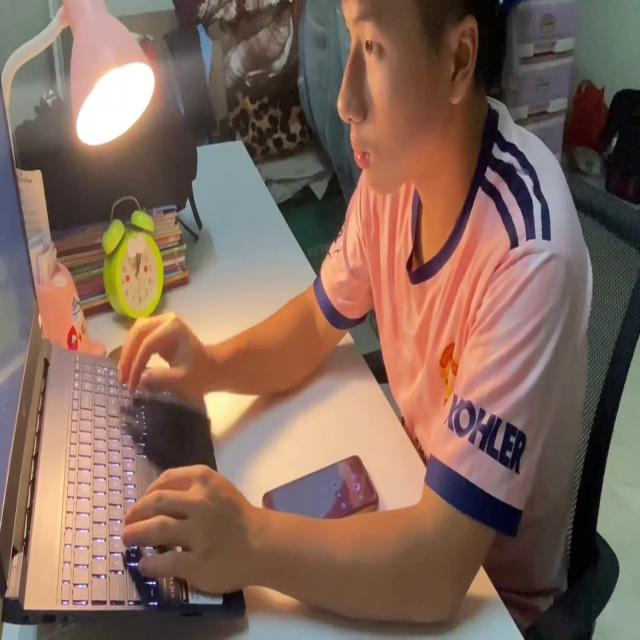laptop: (0, 69, 250, 624)
phone: (258, 447, 384, 532)
student: (120, 0, 590, 631)
